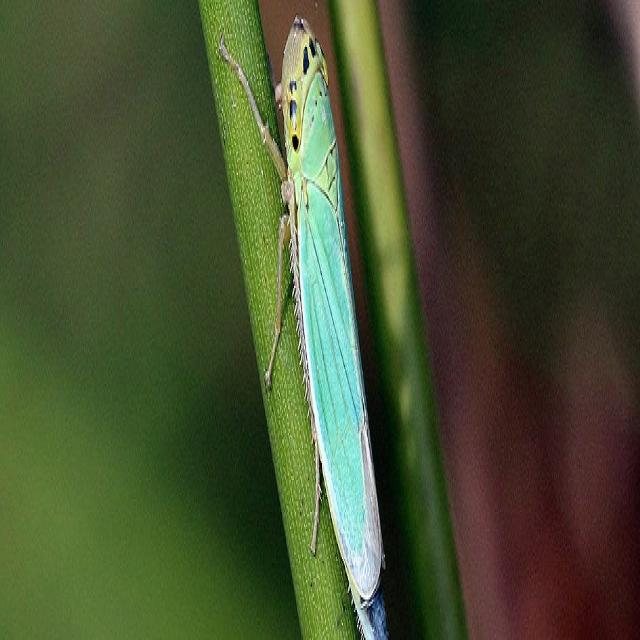Yechan: (260, 13, 385, 620)
